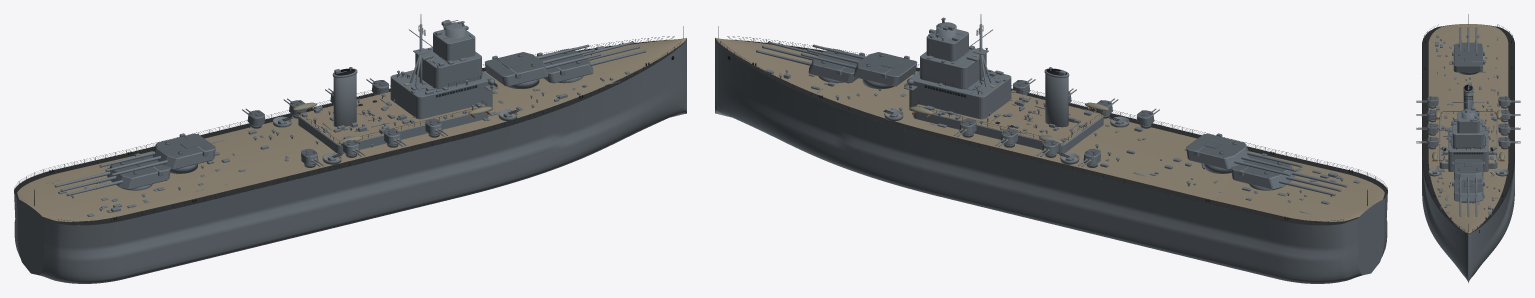
The model's file is tennessee.glb.
The picture shows the model from 3 angles, left to right: view 1: azimuth 30°, elevation 25°; view 2: azimuth 150°, elevation 25°; view 3: azimuth 270°, elevation 25°; orthographic projection. The views are drawn at different scales.
Parts seen in each view (by area): view 1: tennessee, T_2_malla, T_1_malla, T_3_malla, T_0_malla, C_3, C_2, C_1, C_0; view 2: tennessee, T_2_malla, T_1_malla, T_3_malla, T_0_malla, C_3, C_2, C_1, C_0; view 3: tennessee, T_2_malla, T_1_malla, T_0_malla, T_3_malla, C_0, C_1, C_2, T_4_malla, T_5_malla, T_6_malla, T_7_malla (+5 smaller).
Boxes of the visible parts, bbox=[...] form: tennessee: bbox=[14, 14, 686, 283]; T_2_malla: bbox=[153, 133, 215, 169]; T_1_malla: bbox=[484, 52, 548, 86]; T_3_malla: bbox=[107, 153, 170, 189]; T_0_malla: bbox=[536, 48, 593, 83]; C_3: bbox=[54, 171, 123, 196]; C_2: bbox=[99, 151, 167, 176]; C_1: bbox=[536, 44, 600, 68]; C_0: bbox=[582, 41, 645, 65]; tennessee: bbox=[715, 14, 1387, 283]; T_2_malla: bbox=[1186, 133, 1248, 169]; T_1_malla: bbox=[853, 52, 917, 86]; T_3_malla: bbox=[1231, 153, 1294, 189]; T_0_malla: bbox=[808, 48, 865, 83]; C_3: bbox=[1279, 171, 1347, 196]; C_2: bbox=[1234, 151, 1302, 176]; C_1: bbox=[801, 44, 865, 68]; C_0: bbox=[756, 41, 819, 65]; tennessee: bbox=[1422, 14, 1514, 283]; T_2_malla: bbox=[1452, 51, 1484, 72]; T_1_malla: bbox=[1452, 159, 1484, 180]; T_0_malla: bbox=[1452, 179, 1484, 202]; T_3_malla: bbox=[1452, 42, 1484, 58]; C_0: bbox=[1459, 196, 1477, 216]; C_1: bbox=[1459, 177, 1477, 196]; C_2: bbox=[1459, 36, 1477, 51]; T_4_malla: bbox=[1426, 137, 1438, 147]; T_5_malla: bbox=[1498, 137, 1510, 147]; T_6_malla: bbox=[1426, 123, 1438, 133]; T_7_malla: bbox=[1498, 123, 1510, 133].
Size of the model in its own units: 190 by 45.5 by 38.86.
